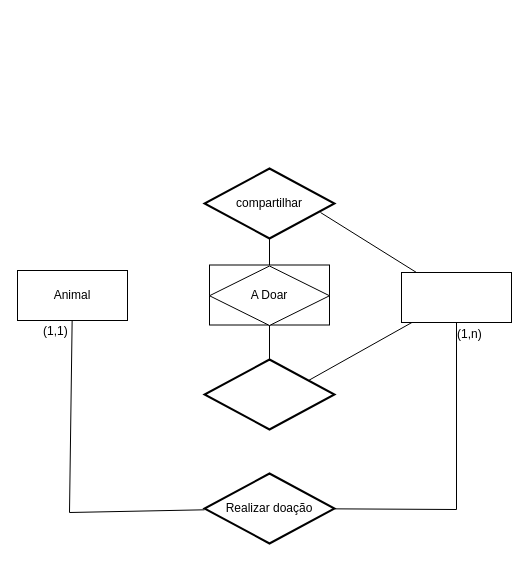
Some shapes in this 529 by 562 pixel diagram are drawn without their labels. The shapes that lost their labels are listed below. From the top down, each one's centre as x and y in pixels, then its label:
At (x=456, y=297): "Usuario".
At (x=269, y=394): "Fvoritar".
